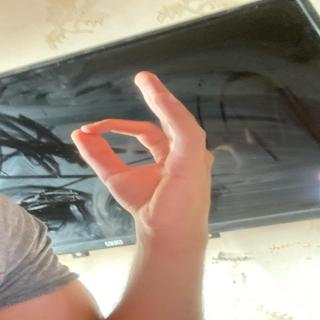Space: (55, 67, 219, 208)
